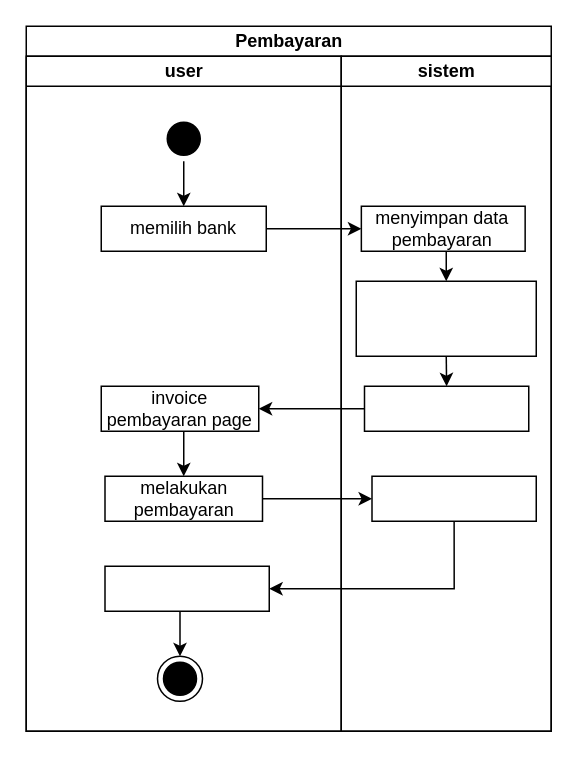
Some shapes in this 578 by 758 pixel diagram are drawn without their labels. Each missing label, with the centre of its shape:
ambil data pembayaran: the point at 446,408
membuat request api midtrans: the point at 445,318
update invoice status pembayaran: the point at 186,588
update status pembayaran: the point at 453,498
